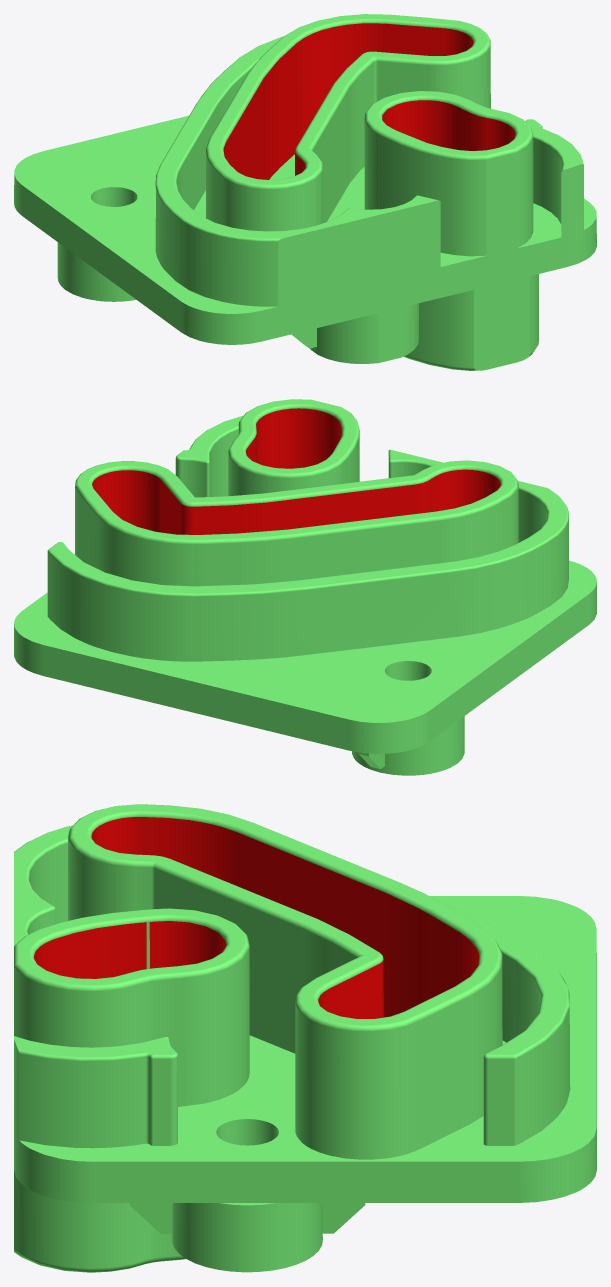
File: c1e4aefd-0ad8-49d7-8955-f4ca5c123d15.glb
3 views of the same model, one above another, from view 1: azimuth 30°, elevation 25°; view 2: azimuth 150°, elevation 25°; view 3: azimuth 270°, elevation 25° (orthographic). The views are drawn at different scales.
Visible parts, largest first — view 1: 门体-81_Default; view 2: 门体-81_Default; view 3: 门体-81_Default.
Part boxes in pixels (box(x1,y1,x2,y2)): 门体-81_Default: box(14, 14, 596, 370); 门体-81_Default: box(14, 399, 596, 775); 门体-81_Default: box(14, 804, 596, 1272).
Size of the model in its own units: 0.0404 by 0.02 by 0.0371.
